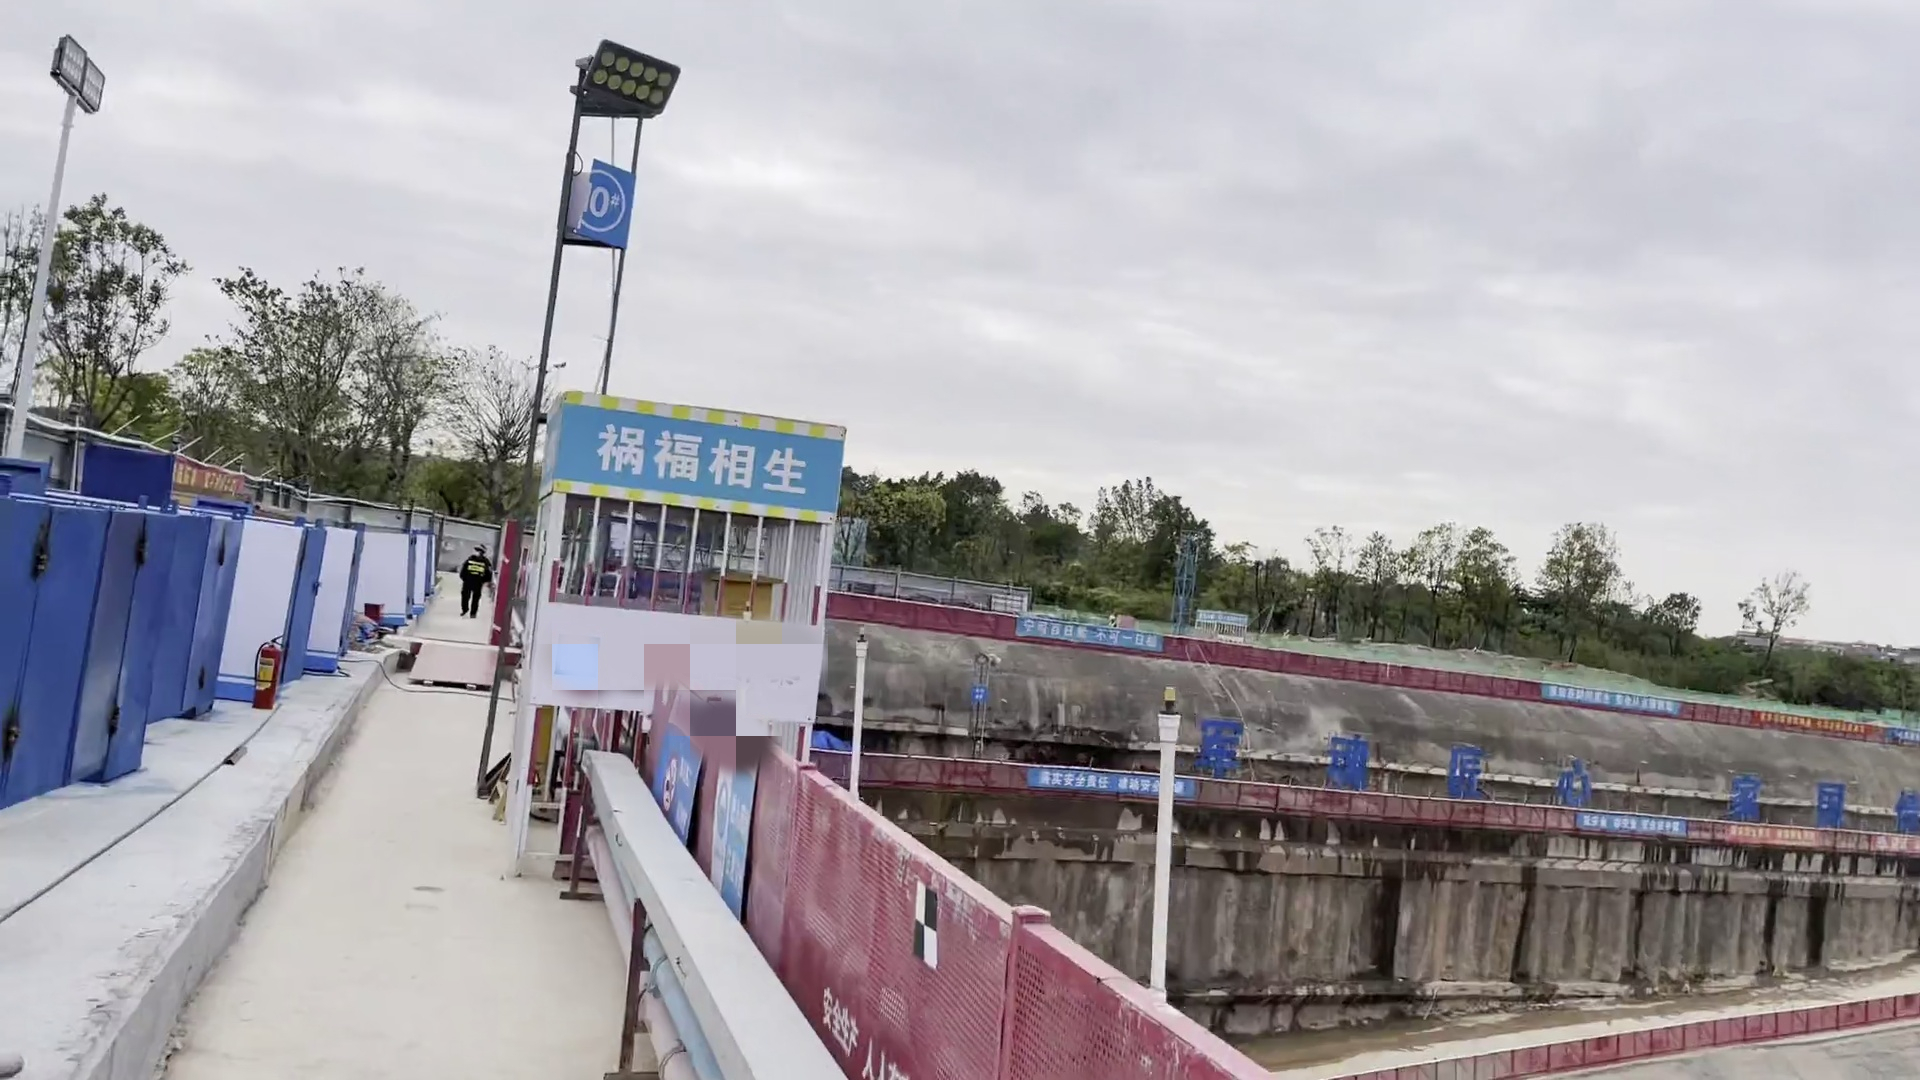ebox: (699, 558, 790, 704), (514, 678, 560, 799)
fence: (635, 693, 942, 1080), (923, 872, 1233, 1080), (827, 585, 1094, 664), (1091, 616, 1315, 680), (819, 741, 1038, 807), (1033, 755, 1252, 815)
helmet: (471, 543, 492, 557)
person: (455, 538, 492, 619)
slogan: (522, 393, 869, 522), (621, 719, 779, 930), (553, 158, 650, 266), (1026, 761, 1204, 816), (1007, 612, 1169, 664), (1719, 819, 1920, 861), (1535, 677, 1684, 730), (1735, 699, 1877, 749), (1569, 804, 1696, 845), (169, 451, 260, 507), (257, 655, 281, 699)
vest: (462, 555, 489, 585)
